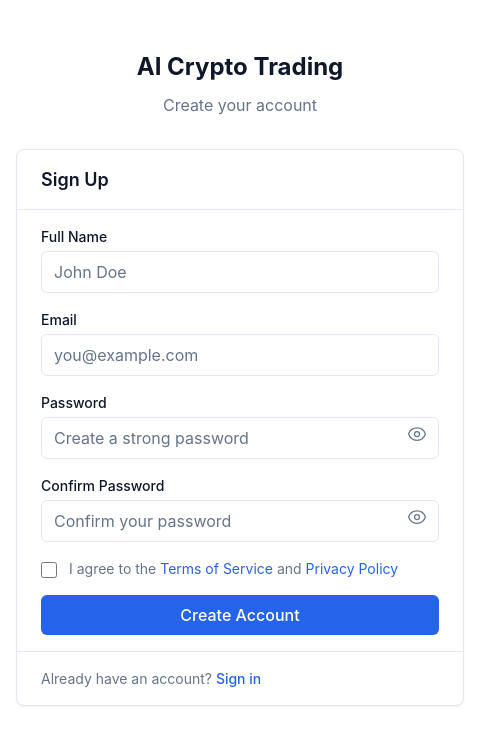
Scenario: Signup Page › Form Validation › should show error when password is too short
Type "Test User" into the field labelled "Full Name". click: (240, 272)
box: [41, 250, 439, 292]
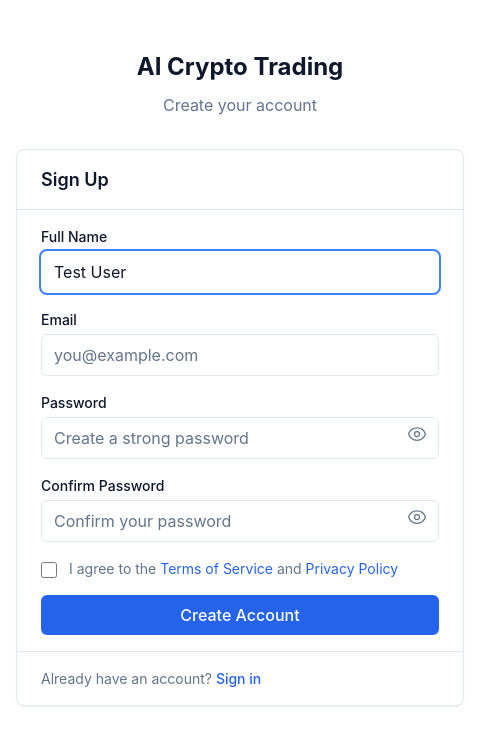
Type "test@example.com" into the field labelled "Email". click: (240, 354)
box: [41, 334, 439, 376]
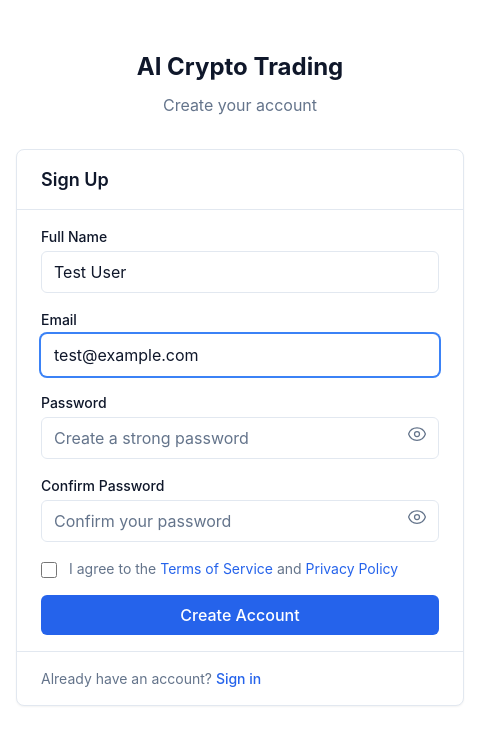
Type "short" into the password field labelled "Password". click: (240, 438)
box: [41, 416, 439, 458]
(page scrolled)
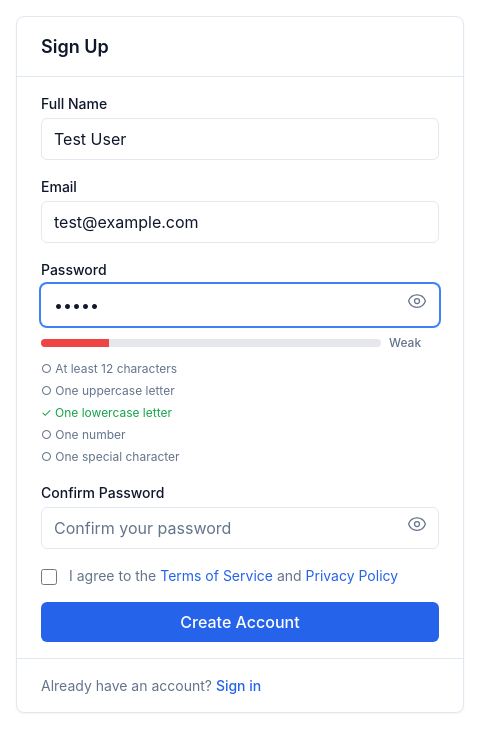
Click the button "Create Account". click: click(240, 622)
box: [41, 602, 439, 642]
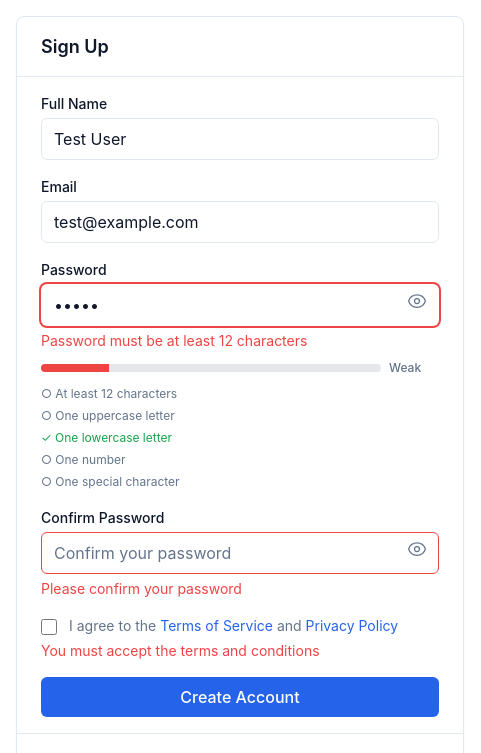
Result: the text "Password must be at least 12 characters" is shown at [41, 332, 307, 349]
